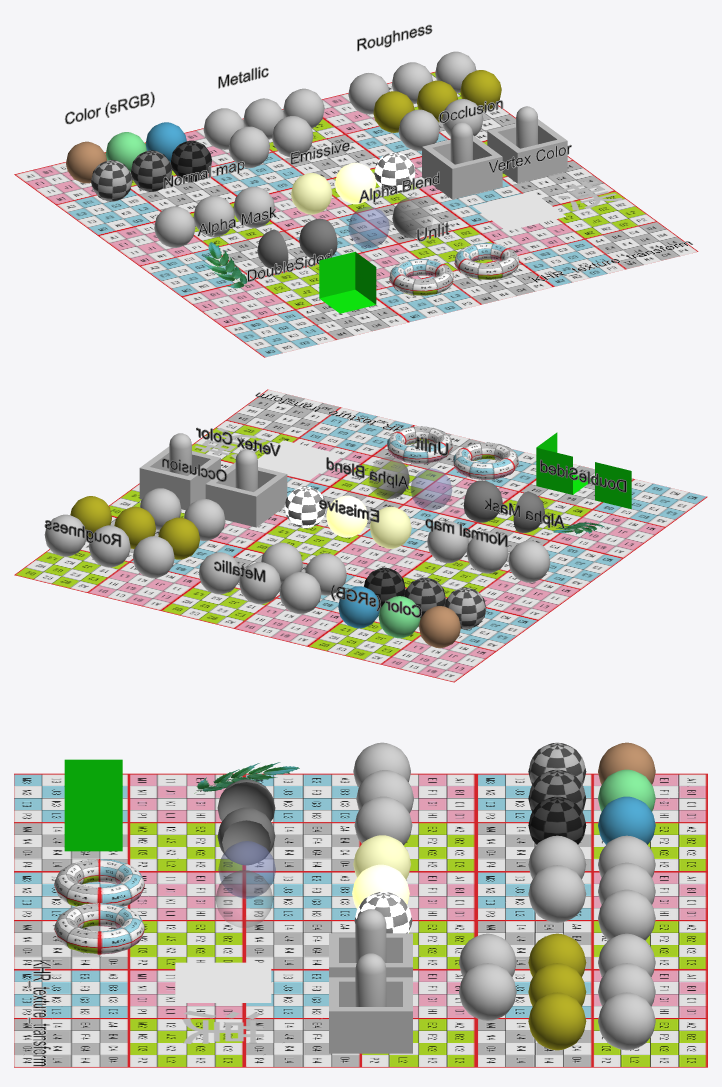
The model's file is many_materials.gltf.
3 renders of one model, top to bottom at view 1: azimuth 30°, elevation 25°; view 2: azimuth 150°, elevation 25°; view 3: azimuth 270°, elevation 25°, orthographic. The views are drawn at different scales.
Visible parts, largest first — view 1: ground_1, ground_2, Occlusion_47, Occlusion_48, object 7, object 48, torus_64, torus_63, sphere_tex_20, sphere_tex_39, sphere_43, sphere_54 (+36 smaller); view 2: ground_1, ground_2, Occlusion_47, Occlusion_48, object 48, torus_63, torus_64, object 7, sphere_30, sphere_tex_39, sphere_24, sphere_17 (+38 smaller); view 3: ground_1, ground_2, Occlusion_48, object 48, Occlusion_47, torus_64, torus_63, object 7, sphere_35, sphere_tex_28, sphere_32, sphere_tex_52 (+29 smaller).
Part boxes in pixels (x1=…): ground_1: x1=14, y1=71, x2=615, y2=296; ground_2: x1=181, y1=191, x2=698, y2=357; Occlusion_47: x1=422, y1=122, x2=502, y2=199; Occlusion_48: x1=487, y1=106, x2=567, y2=183; object 7: x1=319, y1=251, x2=376, y2=313; object 48: x1=472, y1=191, x2=565, y2=230; torus_64: x1=454, y1=243, x2=519, y2=279; torus_63: x1=389, y1=259, x2=453, y2=295; sphere_tex_20: x1=91, y1=160, x2=132, y2=201; sphere_tex_39: x1=154, y1=206, x2=195, y2=247; sphere_43: x1=291, y1=173, x2=332, y2=214; sphere_54: x1=348, y1=206, x2=389, y2=248; ground_1: x1=14, y1=460, x2=623, y2=682; ground_2: x1=192, y1=389, x2=707, y2=558; Occlusion_47: x1=205, y1=449, x2=287, y2=527; Occlusion_48: x1=139, y1=433, x2=220, y2=510; object 48: x1=257, y1=440, x2=343, y2=480; torus_63: x1=453, y1=442, x2=518, y2=479; torus_64: x1=387, y1=426, x2=452, y2=463; object 7: x1=536, y1=432, x2=593, y2=494; sphere_30: x1=132, y1=536, x2=174, y2=578; sphere_tex_39: x1=508, y1=540, x2=550, y2=582; sphere_24: x1=279, y1=572, x2=321, y2=614; sphere_17: x1=419, y1=606, x2=460, y2=648; ground_1: x1=244, y1=773, x2=707, y2=1067; ground_2: x1=14, y1=773, x2=244, y2=1067; Occlusion_48: x1=329, y1=953, x2=412, y2=1053; object 48: x1=175, y1=962, x2=271, y2=1002; Occlusion_47: x1=329, y1=909, x2=412, y2=977; torus_64: x1=54, y1=903, x2=144, y2=954; torus_63: x1=54, y1=859, x2=144, y2=906; object 7: x1=64, y1=799, x2=122, y2=851; sphere_35: x1=528, y1=992, x2=586, y2=1050; sphere_tex_28: x1=528, y1=865, x2=586, y2=922; sphere_32: x1=598, y1=992, x2=655, y2=1050; sphere_tex_52: x1=217, y1=807, x2=275, y2=865.
Bounding box in the file's own units: 5.05 × 0.7041 × 4.91.
Materials: 40 (12 with a texture image).
